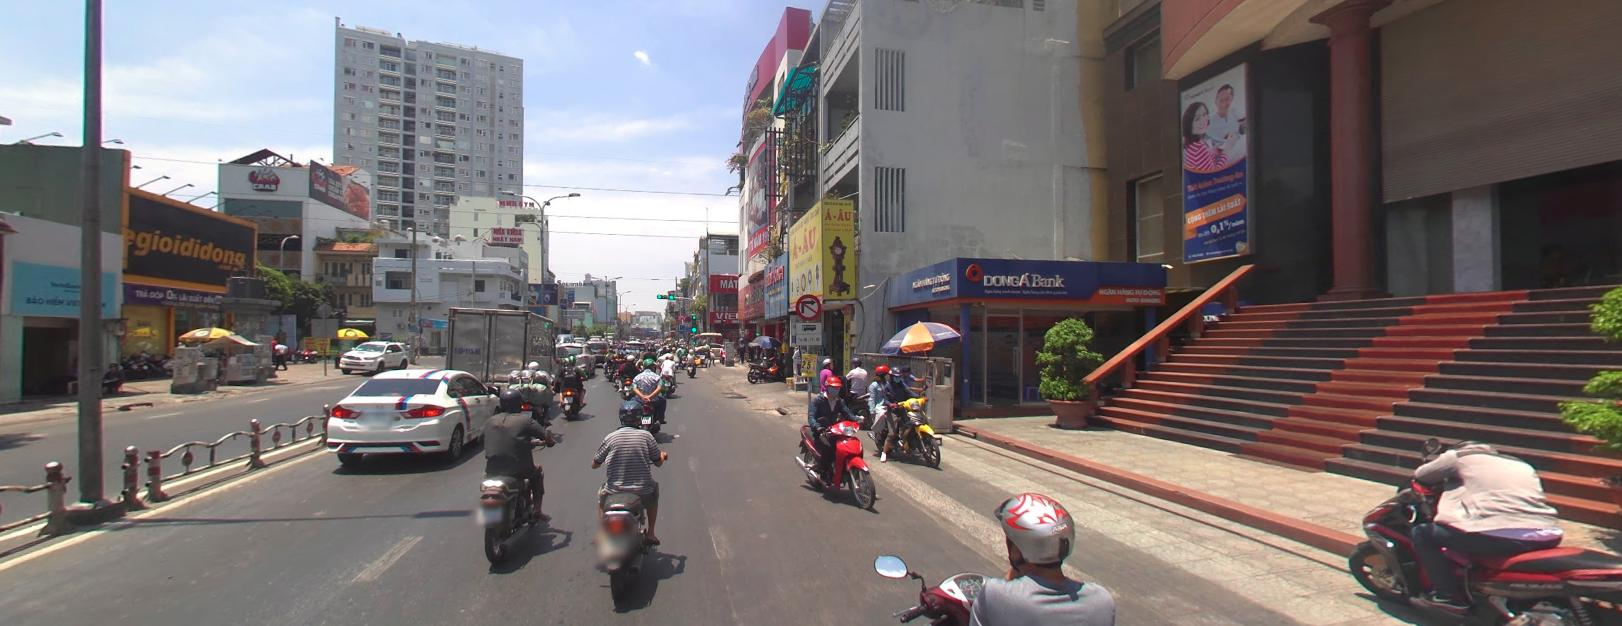Cam dung va do: (685, 314, 690, 320)
Cam re: (795, 292, 821, 319)
